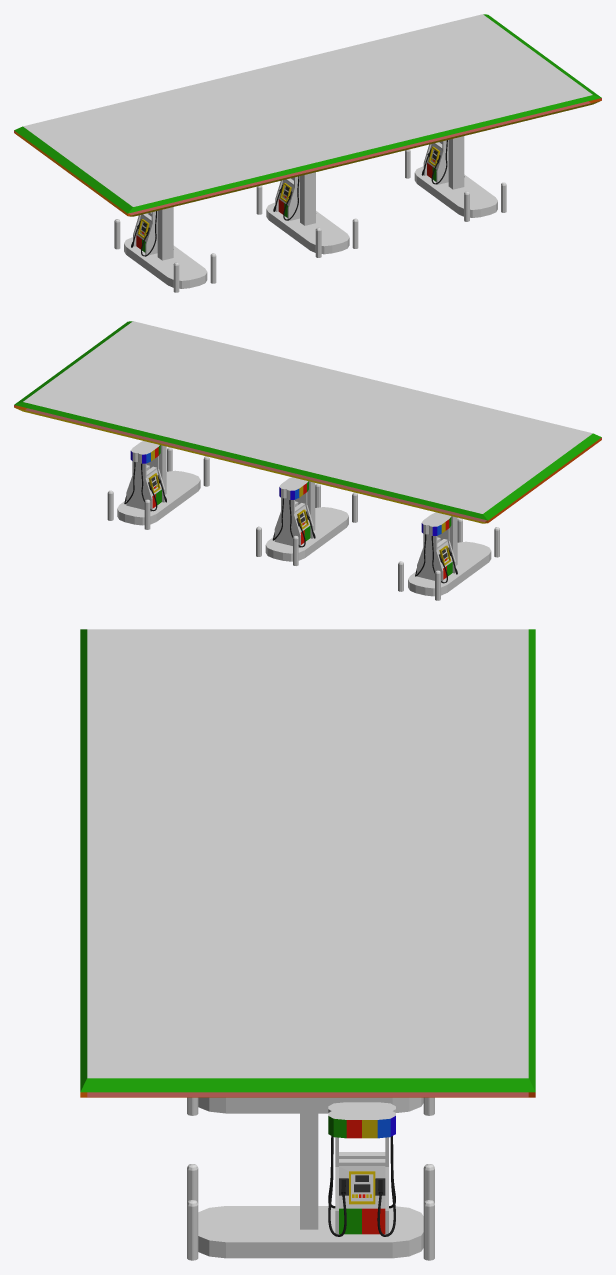
The model's file is gas_stationBIG.glb.
The picture shows the model from 3 angles, top to bottom: view 1: azimuth 30°, elevation 25°; view 2: azimuth 150°, elevation 25°; view 3: azimuth 270°, elevation 25°; orthographic projection. The views are drawn at different scales.
Parts seen in each view (by area): view 1: gas station.001, fuel pump.001, fuel pump.003, fuel pump.002; view 2: gas station.001, fuel pump.001, fuel pump.002, fuel pump.003; view 3: gas station.001, fuel pump.001.
Part boxes in pixels (x1=…): gas station.001: x1=14, y1=14, x2=601, y2=292; fuel pump.001: x1=421, y1=140, x2=464, y2=184; fuel pump.003: x1=131, y1=211, x2=157, y2=256; fuel pump.002: x1=273, y1=176, x2=299, y2=220; gas station.001: x1=14, y1=321, x2=601, y2=600; fuel pump.001: x1=124, y1=441, x2=166, y2=511; fuel pump.002: x1=272, y1=477, x2=315, y2=547; fuel pump.003: x1=415, y1=512, x2=457, y2=583; gas station.001: x1=80, y1=629, x2=535, y2=1260; fuel pump.001: x1=328, y1=1102, x2=395, y2=1236.
Size of the model in its own units: 24.62 by 5.99 by 10.24.
